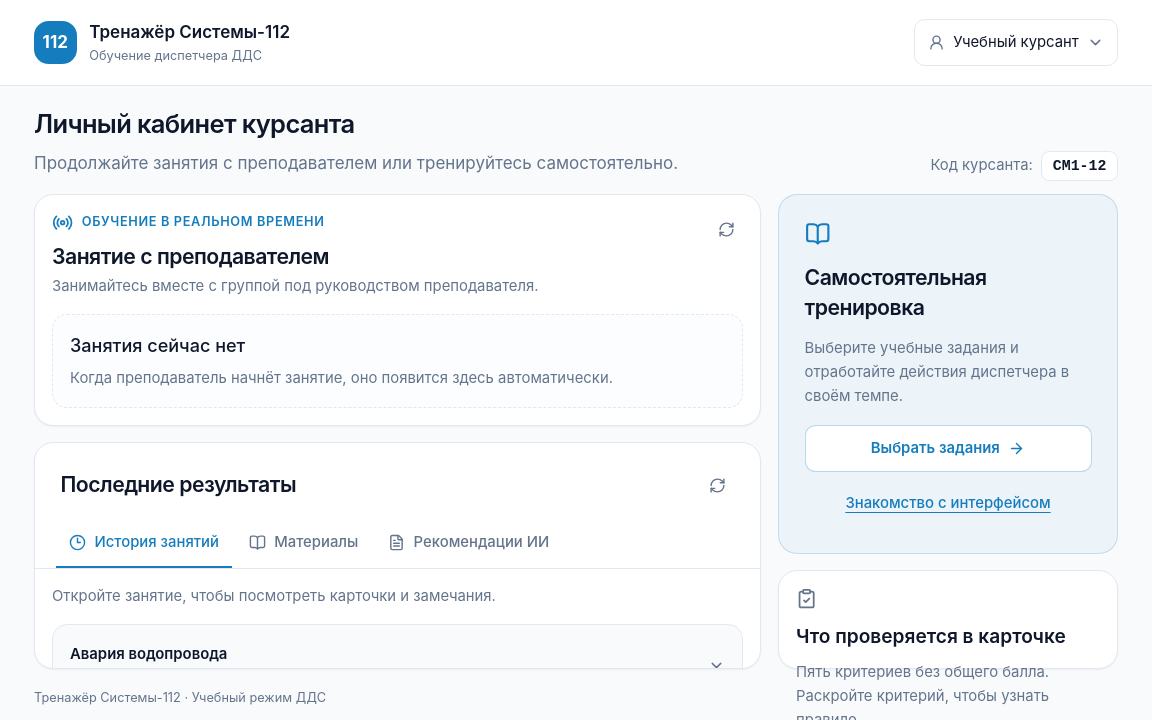
does not call missing evaluation a success and preserves the archived card identity
Click the heading "Авария водопровода" at (149,654), box top-left (70, 645), bottom-right (227, 663)
(page scrolled)
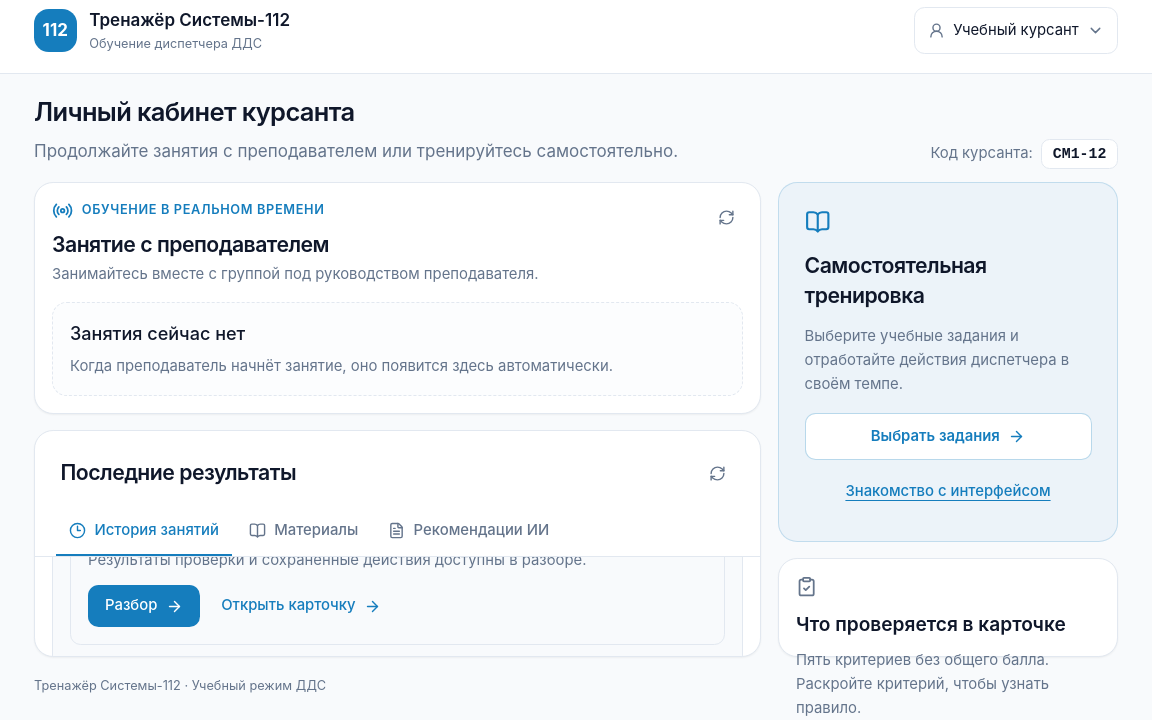
Result: the text "Результаты проверки и сохранённые действия доступны в разборе." is shown at top-left (88, 557), bottom-right (586, 569)
